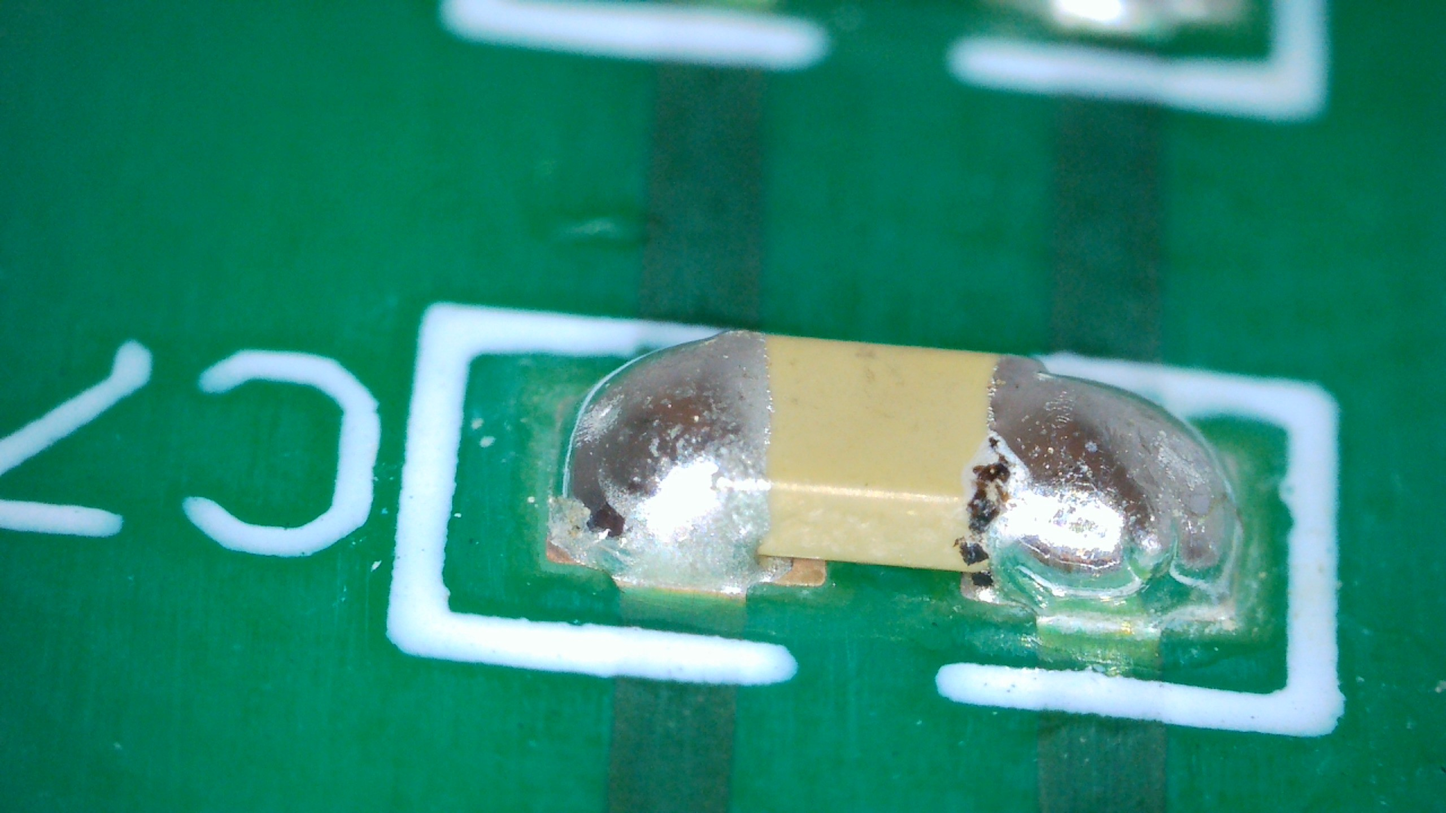NG: (989, 358, 1238, 637), (551, 330, 785, 587)
